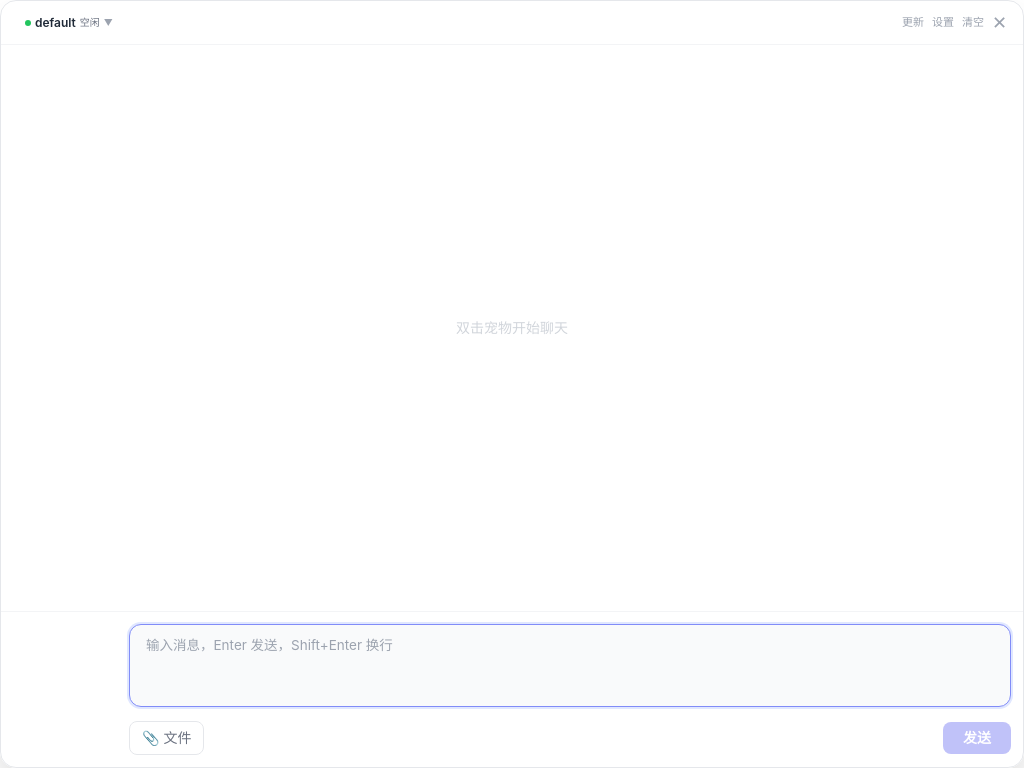
Test: ChatWindow › shows thinking first and switches to working after stream delta
Type "hello" into the text box with placeholder "输入消息，Enter 发送，Shift+Enter 换行" at (570, 666), box 129,624 -> 1011,707
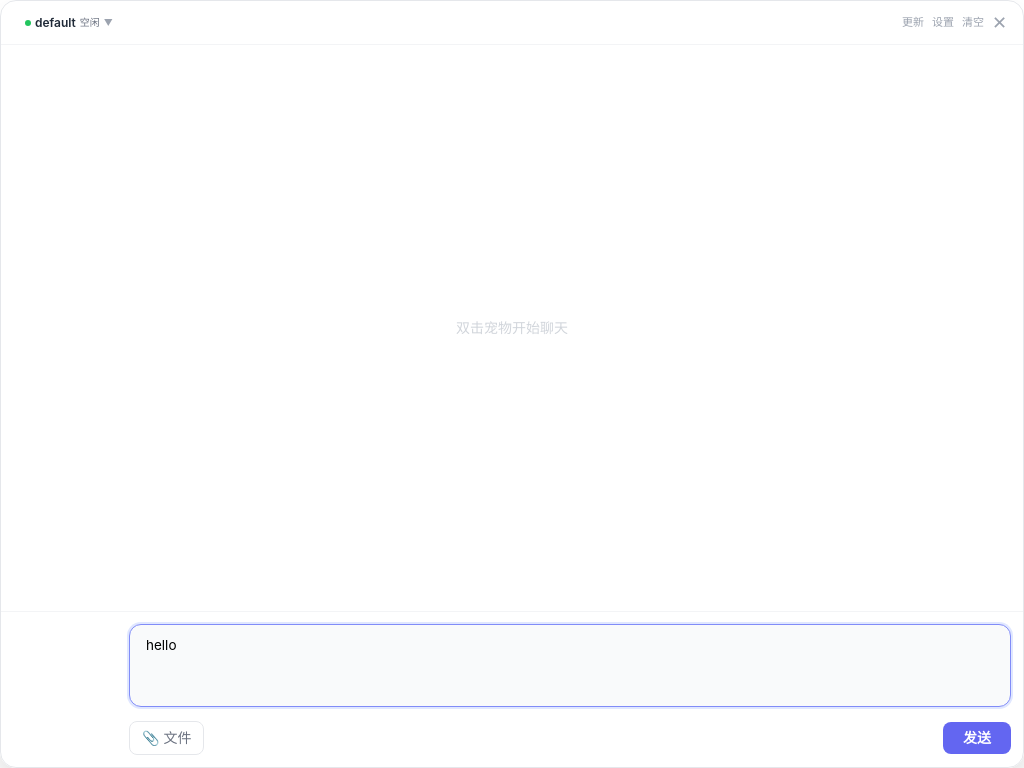
Click the button "发送" at (977, 738), box 943,722 -> 1011,754
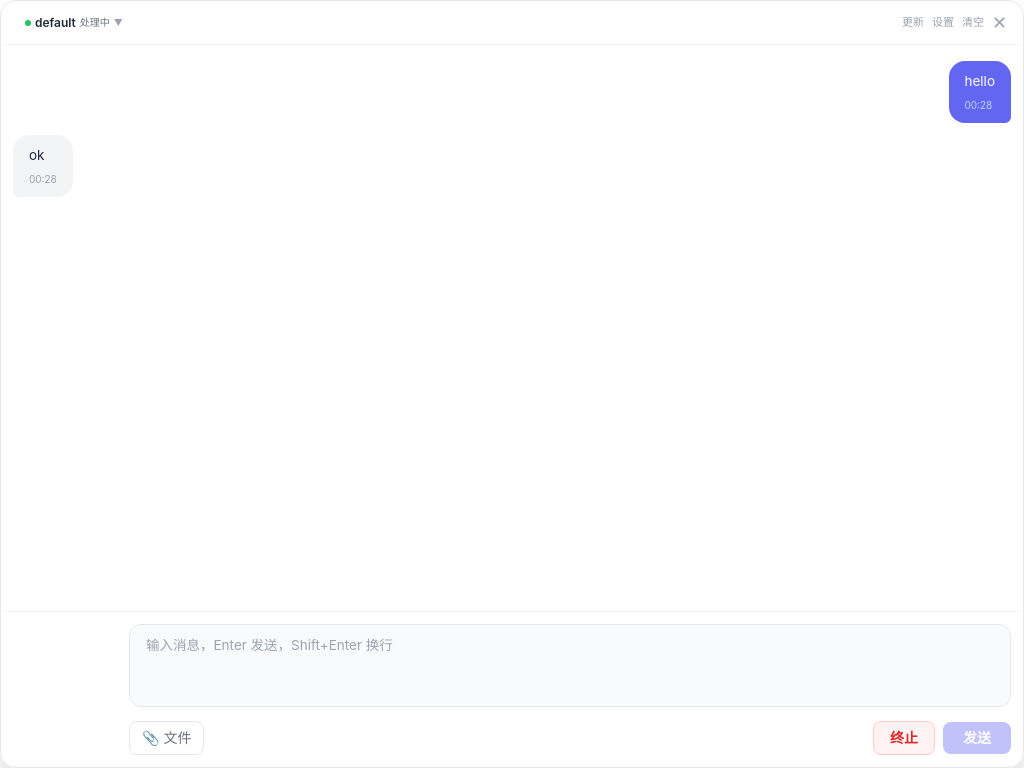
Check: the text "处理中" is shown, box 80,15 -> 110,30
